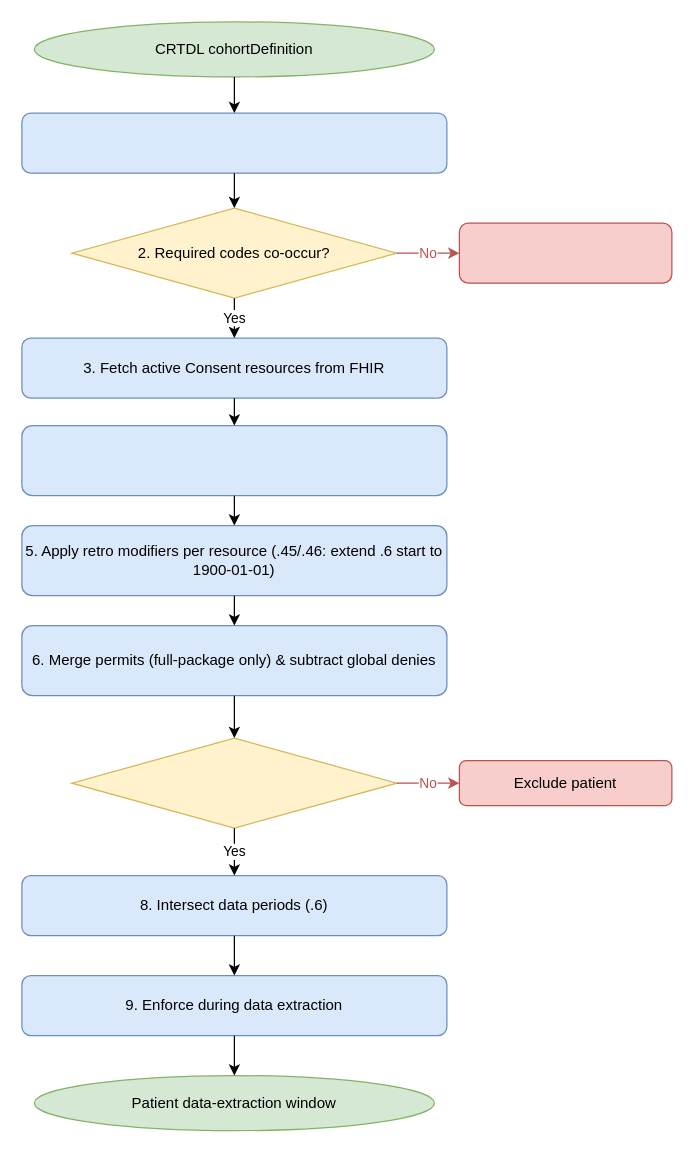
Some shapes in this 694 by 1153 pixel diagram are drawn without their labels. Here are the shapes that lost their labels. From the top down, the centre of each, then its label:
At point (234, 142): "1. Extract consent codes from CRTDL".
At point (565, 252): "Reject request (ConsentFormatException)".
At point (234, 460): "4. Encounter adjustment (shift .6 start to earliest overlapping Encounter)".
At point (234, 782): "7. Gate check (.8): today within permit period?".
